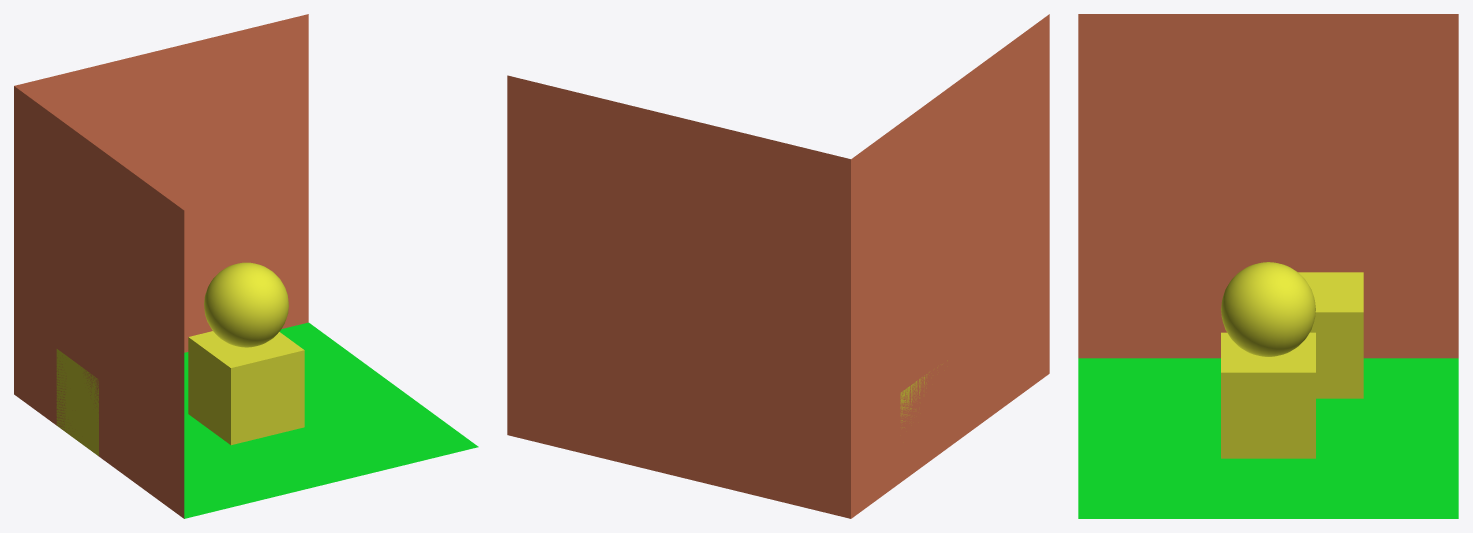
The model's file is lighting-scene.fbx.
3 renders of one model, left to right at view 1: azimuth 30°, elevation 25°; view 2: azimuth 150°, elevation 25°; view 3: azimuth 270°, elevation 25°, orthographic. The views are drawn at different scales.
Visible parts, largest first — view 1: Plane, Cube, Sphere, Cube.001; view 2: Plane; view 3: Plane, Cube, Sphere, Cube.001.
Boxes of the visible parts, x1,y1,x2,y2 form: Plane: [14, 14, 478, 518]; Cube: [188, 331, 304, 445]; Sphere: [204, 262, 288, 347]; Cube.001: [56, 349, 98, 456]; Plane: [507, 14, 1049, 518]; Plane: [1078, 14, 1458, 518]; Cube: [1221, 332, 1315, 458]; Sphere: [1221, 262, 1315, 356]; Cube.001: [1298, 272, 1363, 398].
Bounding box in the file's own units: 800 × 800 × 800.
